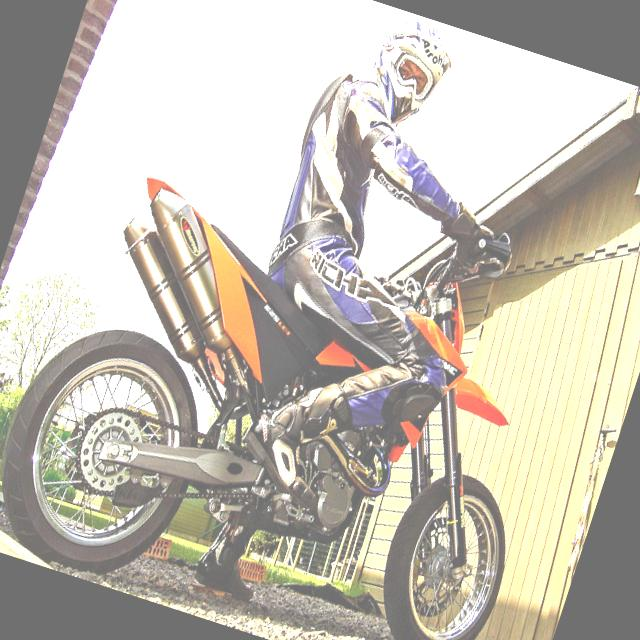Vehicle: (0, 156, 593, 640)
